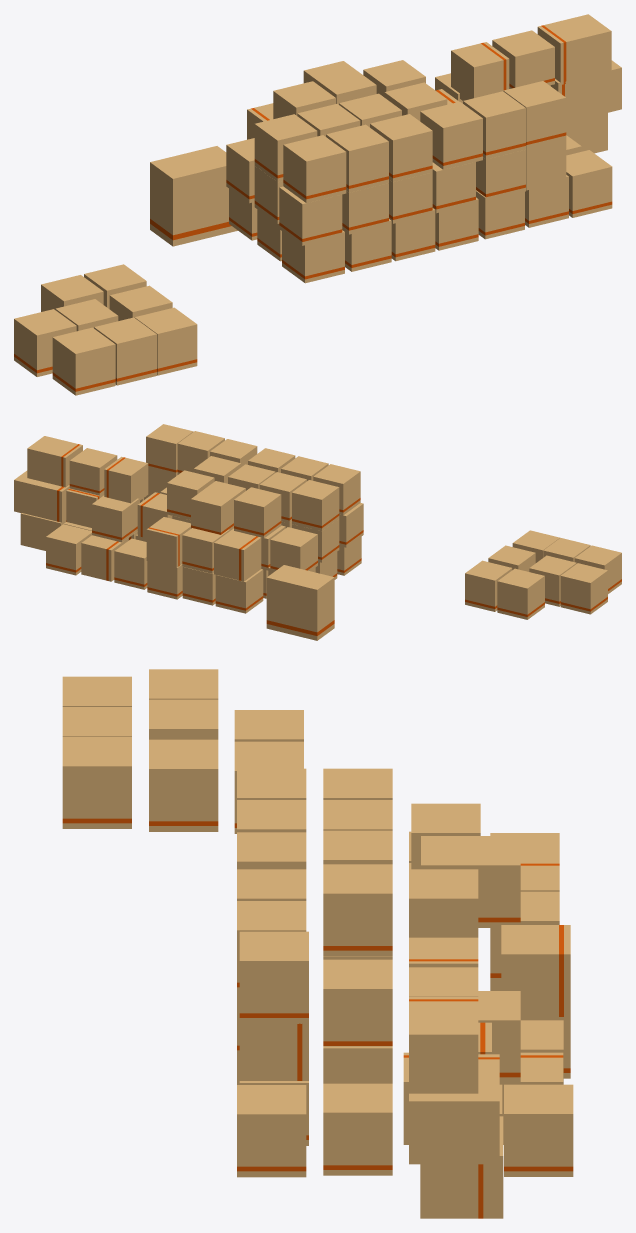
The model's file is boxes.fbx.
3 renders of one model, top to bottom at view 1: azimuth 30°, elevation 25°; view 2: azimuth 150°, elevation 25°; view 3: azimuth 270°, elevation 25°, orthographic. The views are drawn at different scales.
Parts seen in each view (by area): view 1: 立方体.215; view 2: 立方体.215; view 3: 立方体.215.
Boxes of the visible parts, x1,y1,x2,y2 form: 立方体.215: [14, 14, 621, 395]; 立方体.215: [14, 424, 621, 640]; 立方体.215: [62, 669, 573, 1218].
Bounding box in the file's own units: 3505 × 8025 × 1542.
